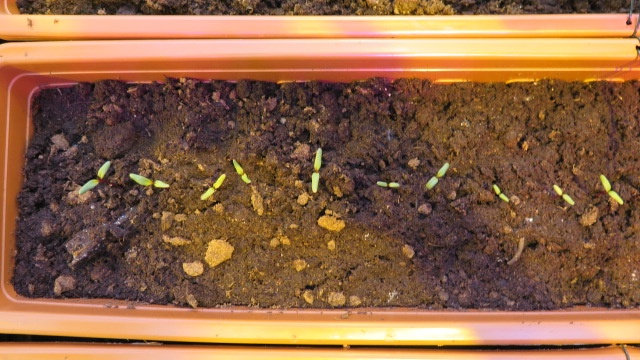crop: (74, 157, 113, 196), (198, 172, 229, 202), (598, 173, 625, 207), (423, 160, 454, 189), (307, 146, 325, 195), (127, 172, 173, 190), (229, 157, 254, 185), (549, 183, 577, 207), (488, 182, 512, 204), (374, 181, 402, 188)
